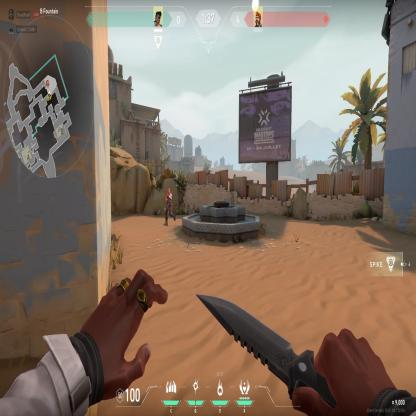enemy: (163, 187, 176, 226)
